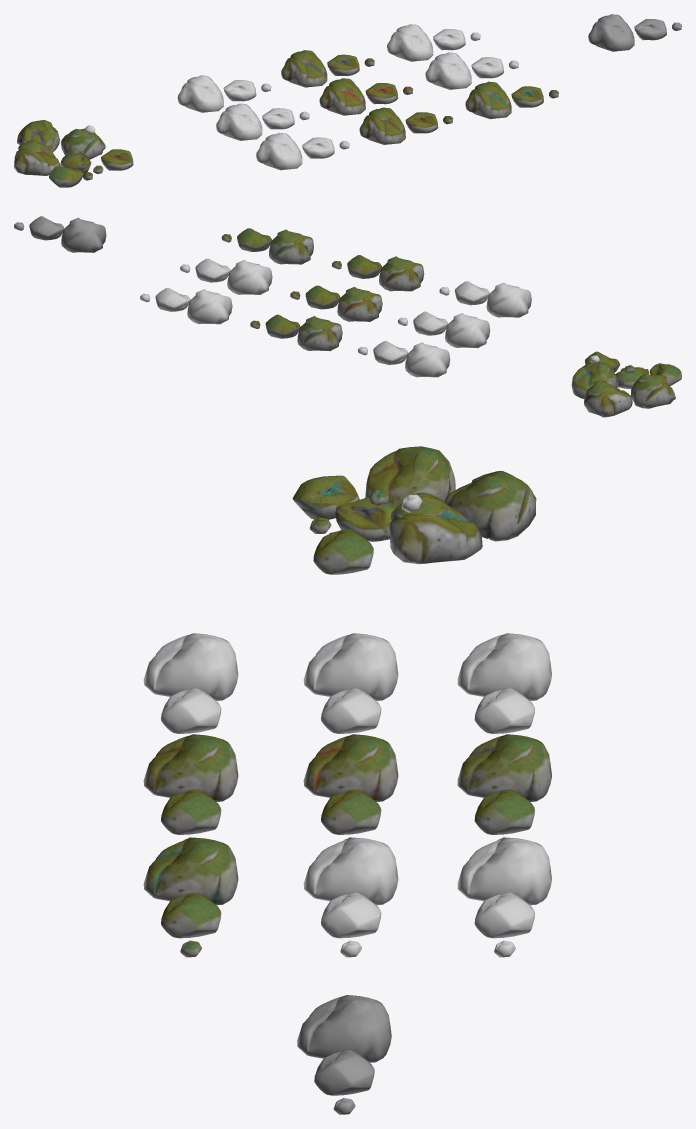
The model's file is OreRocksPack.fbx.
3 renders of one model, top to bottom at view 1: azimuth 30°, elevation 25°; view 2: azimuth 150°, elevation 25°; view 3: azimuth 270°, elevation 25°, orthographic. The views are drawn at different scales.
Visible parts, largest first — view 1: OreRock_large.003, OreRock_large, OreRock_large.005, OreRock_large.009, OreRock_large.004, OreRock_large.002, OreRock_large.006, OreRock_large.007, OreRock_large.001, OreRock_large.008, OreRock_large.010, OreRock_large.012 (+14 smaller); view 2: OreRock_large.011, OreRock_large, OreRock_large.002, OreRock_large.009, OreRock_large.006, OreRock_large.003, OreRock_large.004, OreRock_large.001, OreRock_large.005, OreRock_large.008, OreRock_large.007, OreRock_large.010 (+13 smaller); view 3: OreRock_large.007, OreRock_large.006, OreRock_large.009, OreRock_large, OreRock_large.001, OreRock_large.003, OreRock_large.004, OreRock_large.008, OreRock_large.002, OreRock_large.005, OreRock_large.012, OreRock_large.011 (+14 smaller).
Boxes of the visible parts, <box> form: OreRock_large.003: <box>216,103,262,140</box>; OreRock_large: <box>256,132,302,170</box>; OreRock_large.005: <box>425,52,471,89</box>; OreRock_large.009: <box>588,14,634,51</box>; OreRock_large.004: <box>319,78,365,115</box>; OreRock_large.002: <box>465,81,511,119</box>; OreRock_large.006: <box>177,75,223,112</box>; OreRock_large.007: <box>281,50,327,87</box>; OreRock_large.001: <box>359,107,405,144</box>; OreRock_large.008: <box>387,24,433,61</box>; OreRock_large.010: <box>14,140,60,175</box>; OreRock_large.012: <box>60,128,105,159</box>; OreRock_large.011: <box>584,380,632,417</box>; OreRock_large: <box>486,282,531,317</box>; OreRock_large.002: <box>269,229,313,264</box>; OreRock_large.009: <box>61,217,106,252</box>; OreRock_large.006: <box>405,342,450,377</box>; OreRock_large.003: <box>445,313,490,348</box>; OreRock_large.004: <box>337,287,382,321</box>; OreRock_large.001: <box>379,256,424,291</box>; OreRock_large.005: <box>227,260,272,294</box>; OreRock_large.008: <box>187,289,232,324</box>; OreRock_large.007: <box>297,316,342,351</box>; OreRock_large.010: <box>631,373,675,408</box>; OreRock_large.007: <box>457,734,551,801</box>; OreRock_large.006: <box>457,633,551,700</box>; OreRock_large.009: <box>297,995,391,1062</box>; OreRock_large: <box>143,633,238,700</box>; OreRock_large.001: <box>143,734,238,801</box>; OreRock_large.003: <box>303,633,398,700</box>; OreRock_large.004: <box>303,734,398,801</box>; OreRock_large.008: <box>457,837,551,905</box>; OreRock_large.002: <box>143,837,238,905</box>; OreRock_large.005: <box>303,837,398,905</box>; OreRock_large.012: <box>389,492,482,564</box>; OreRock_large.011: <box>444,471,536,541</box>.
Size of the model in its own units: 4020 by 188 by 1093.
